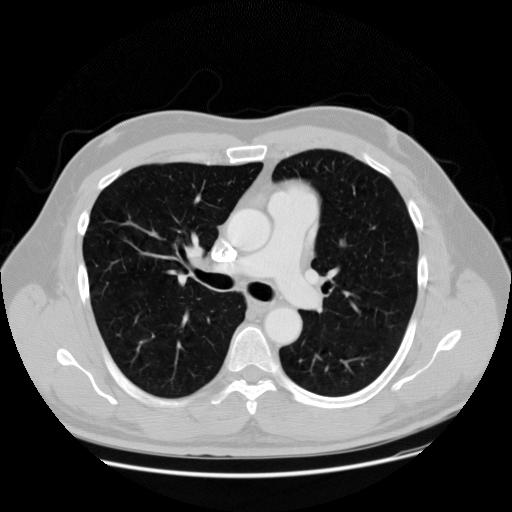nodule: (337, 237, 349, 249)
